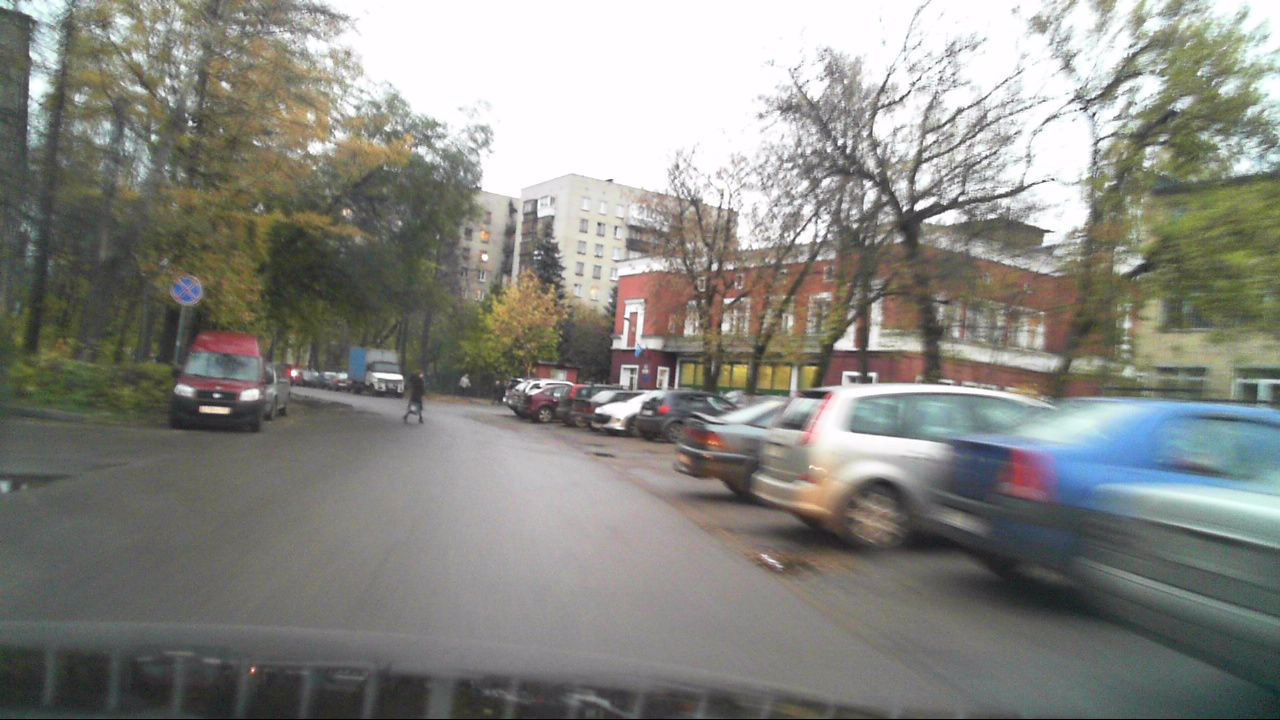No Parking: (170, 273, 203, 306)
